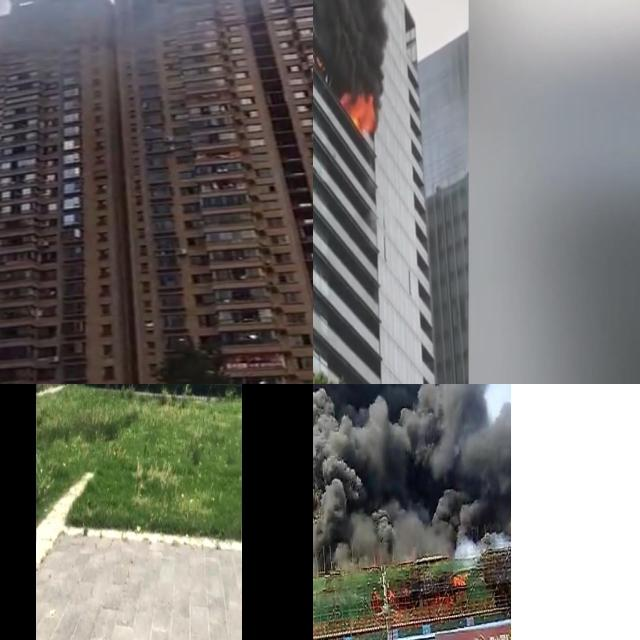fire: (343, 90, 377, 133), (450, 572, 466, 589)
smoke: (313, 384, 509, 575), (0, 0, 274, 58), (313, 0, 394, 101)
